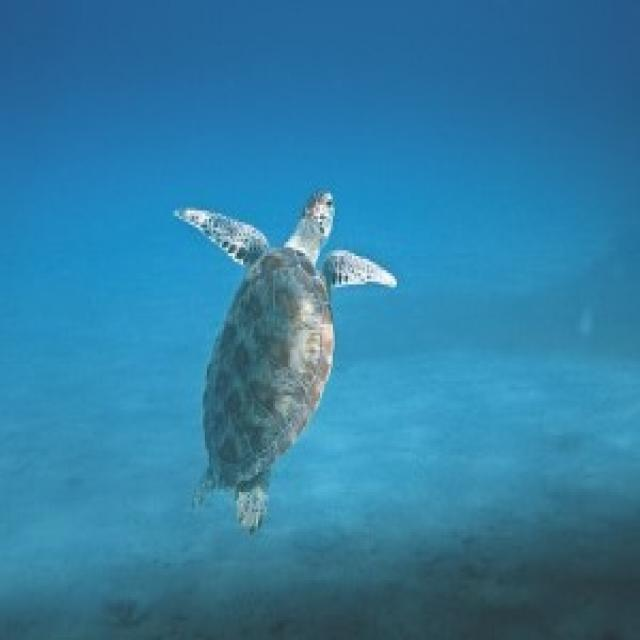Sea turtle: (165, 141, 398, 533)
